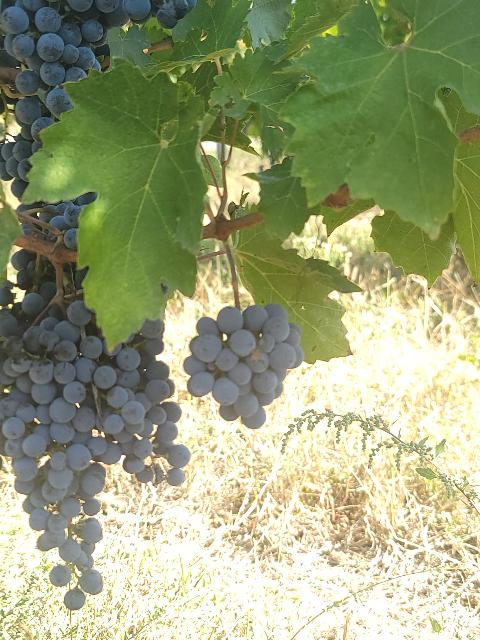grapes: (0, 308, 116, 609), (184, 304, 304, 429), (104, 321, 190, 481), (18, 192, 98, 250)
